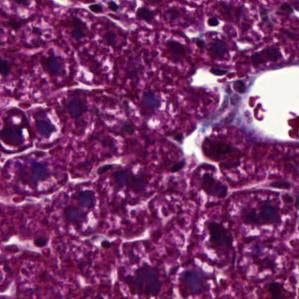inflammation: (182, 161, 233, 202), (24, 101, 63, 150), (196, 11, 229, 36)
